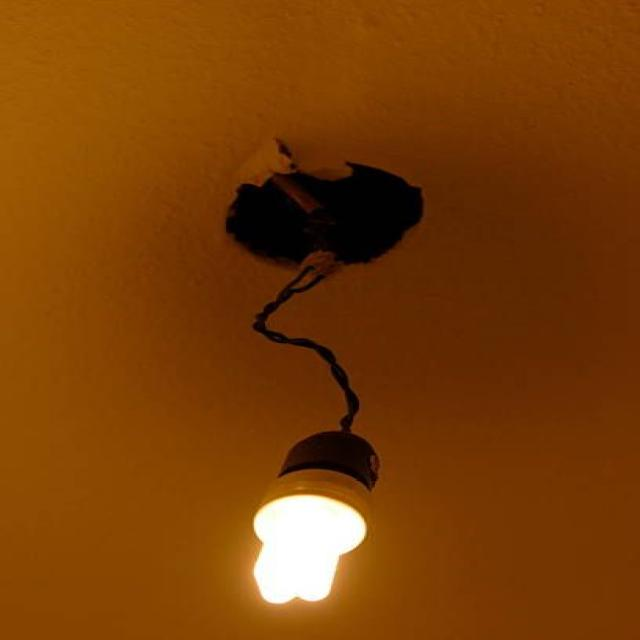electronic: (250, 429, 380, 604)
